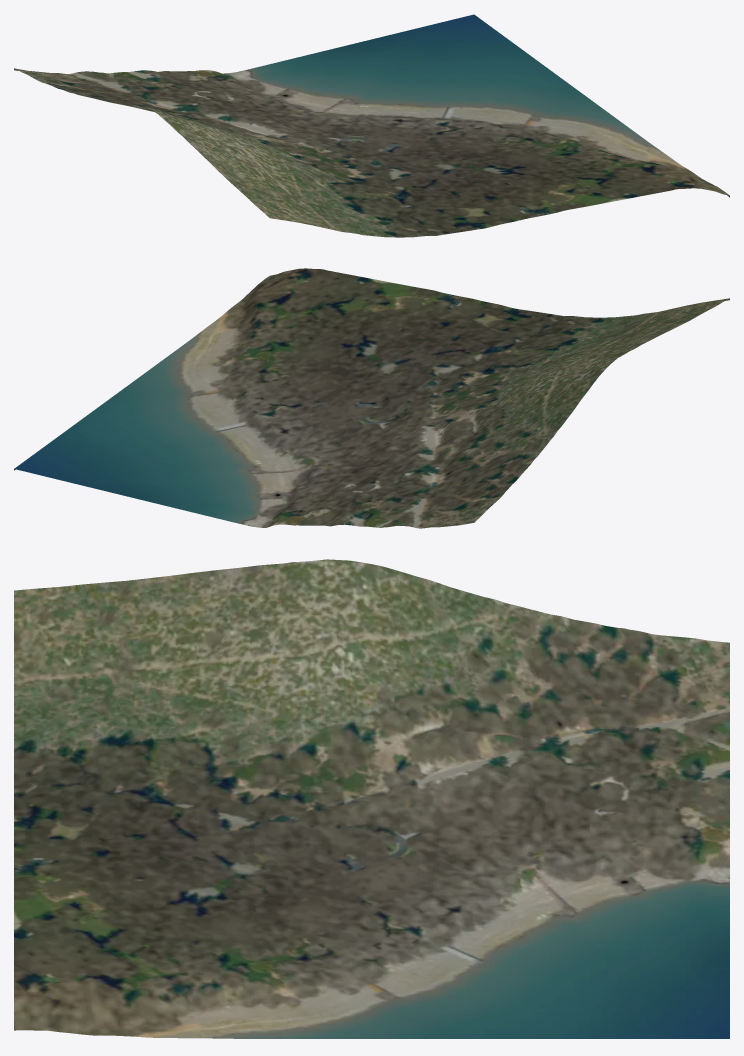
3 renders of one model, top to bottom at view 1: azimuth 30°, elevation 25°; view 2: azimuth 150°, elevation 25°; view 3: azimuth 270°, elevation 25°, orthographic. The views are drawn at different scales.
Bounding box in the file's own units: 250 × 62.24 × 241.
1 material, 1 textured.
